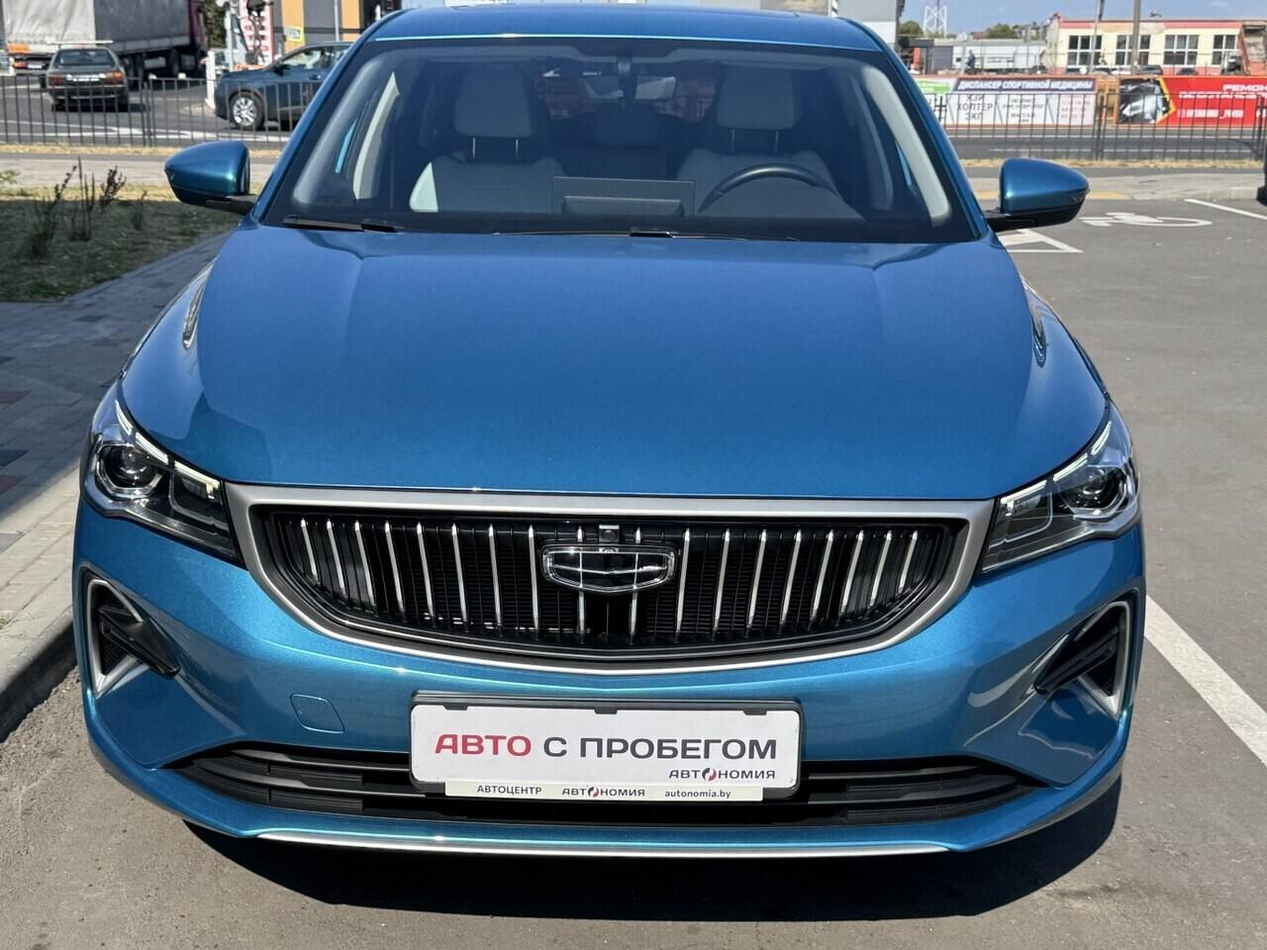Emgrand_2021: (26, 0, 1157, 899)
